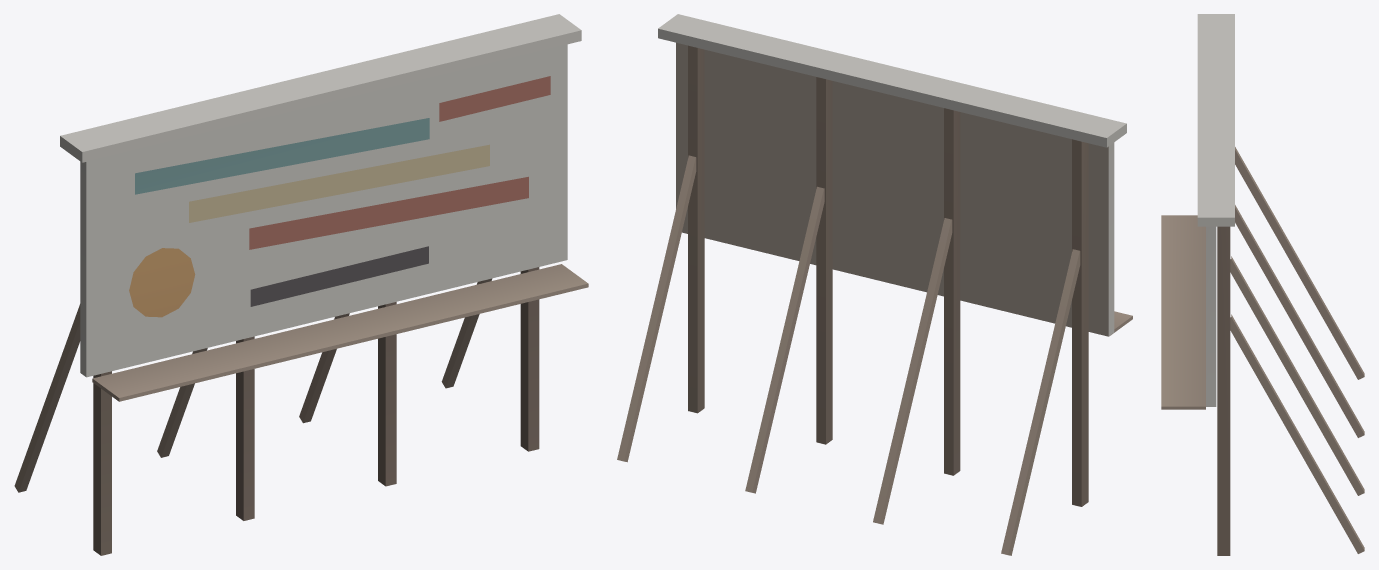
File: billboard.lod2.glb
The picture shows the model from 3 angles, left to right: view 1: azimuth 30°, elevation 25°; view 2: azimuth 150°, elevation 25°; view 3: azimuth 270°, elevation 25°; orthographic projection. The views are drawn at different scales.
Size of the model in its own units: 8.3 by 6.67 by 3.51.
